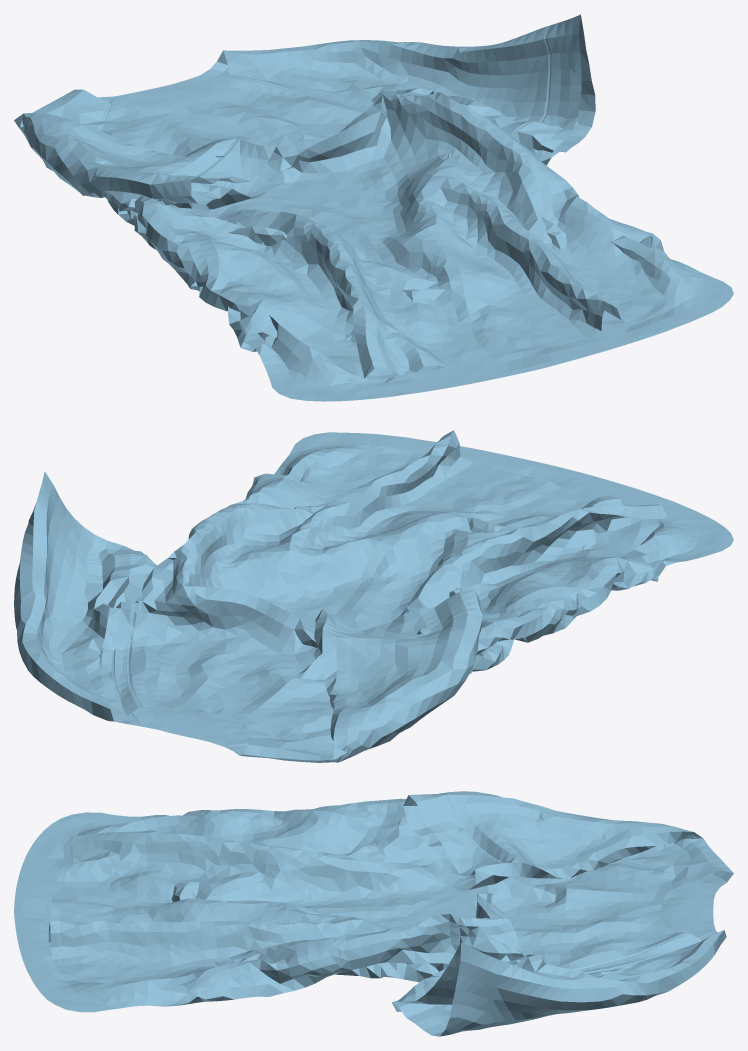
File: frame_04.glb
3 renders of one model, top to bottom at view 1: azimuth 30°, elevation 25°; view 2: azimuth 150°, elevation 25°; view 3: azimuth 270°, elevation 25°, orthographic. The views are drawn at different scales.
Visible parts, largest first — view 1: frame_04.obj; view 2: frame_04.obj; view 3: frame_04.obj.
Part boxes in pixels (bbox=[...]): frame_04.obj: bbox=[14, 14, 733, 401]; frame_04.obj: bbox=[14, 430, 733, 762]; frame_04.obj: bbox=[14, 791, 733, 1036].
Size of the model in its own units: 1.36 by 0.2869 by 1.81.
